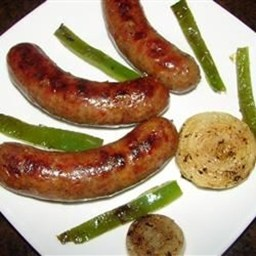background: (0, 0, 102, 82), (22, 31, 74, 102)
